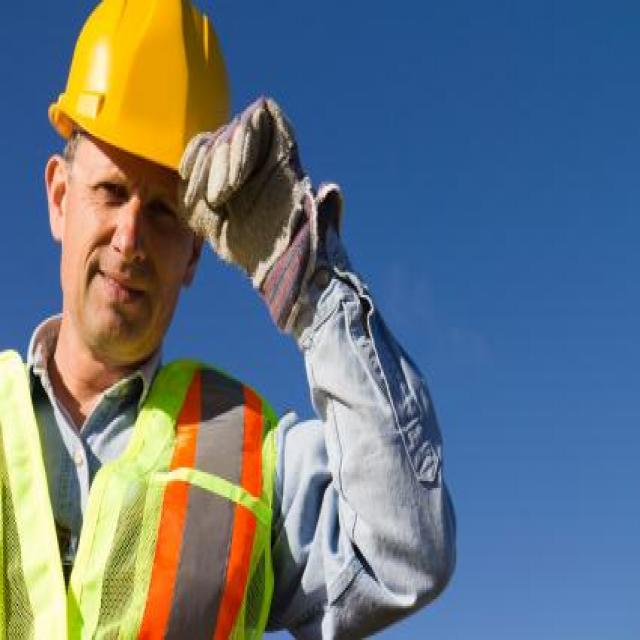Reflective-Jacket: (0, 352, 283, 635)
Safety-Helmet: (47, 2, 238, 191)
